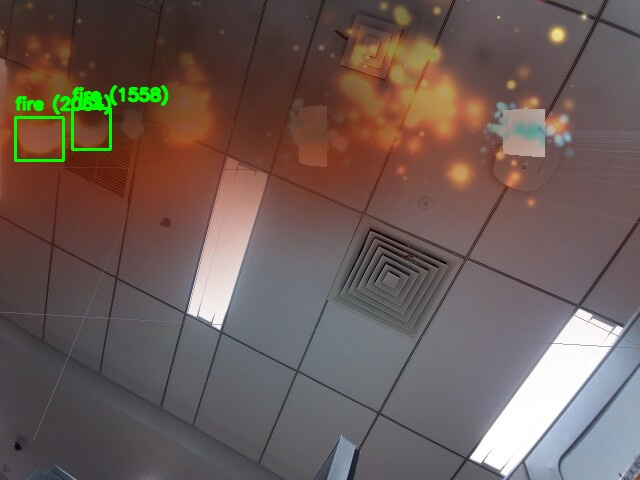fire: (15, 117, 63, 160), (72, 108, 110, 149)
